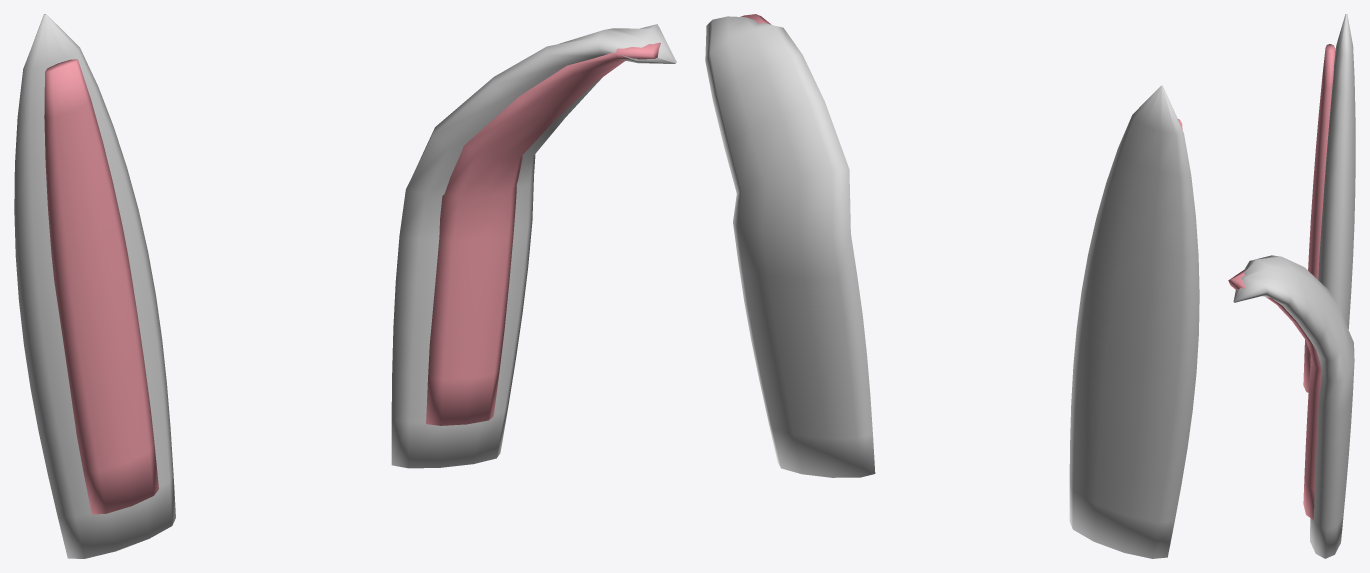
File: head_bunny.glb
3 renders of one model, left to right at view 1: azimuth 30°, elevation 25°; view 2: azimuth 150°, elevation 25°; view 3: azimuth 270°, elevation 25°, orthographic. The views are drawn at different scales.
Parts seen in each view (by area): view 1: head_bunny_q; view 2: head_bunny_q; view 3: head_bunny_q.
Part boxes in pixels (box(x1,y1,x2,y2)): head_bunny_q: box(14, 14, 676, 558); head_bunny_q: box(705, 14, 1199, 558); head_bunny_q: box(1228, 14, 1355, 558).
Size of the model in its own units: 1.91 by 1.64 by 0.4881.
